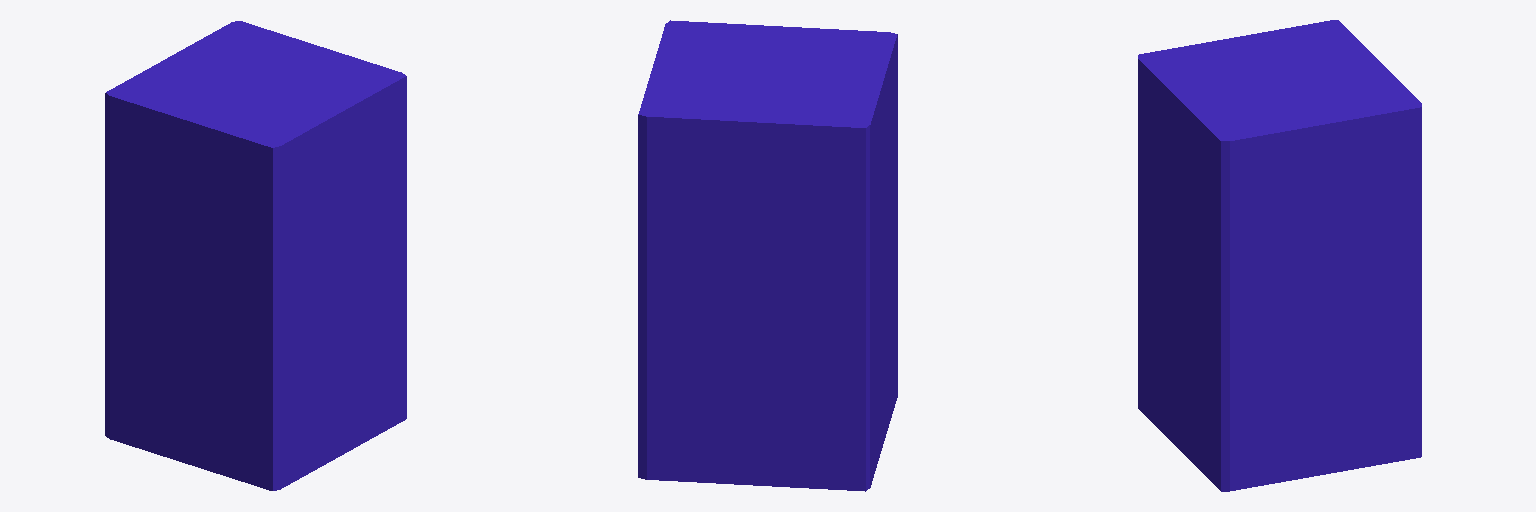
robot.urdf — zonopy_mesh_step1_link1.obj:
<robot name="zonopy_mesh_step1_link1.obj">
	<link name="link0">
		<visual>
			<origin xyz="0 0 0" rpy="0 0 0" />
			<geometry>
				<mesh filename="zonopy_mesh_step1_link1.obj" scale="1.0 1.0 1.0" />
			</geometry>
			<material name="texture">
				<color rgba="0.3 0.2 0.8 0.5" />
			</material>
		</visual>
		<inertial>
			<mass value="0" />
			<inertia ixx="0.0" ixy="0.0" ixz="0.0" iyy="0.0" iyz="0.0" izz="0.0" />
		</inertial>
	<collision><geometry><mesh filename="zonopy_mesh_step1_link1.obj" /></geometry></collision></link>
</robot>

--- What the picture shows (computed from the rendered views, not written in the file) ---
The picture shows the robot from 3 angles, left to right: view 1: azimuth 30°, elevation 25°; view 2: azimuth 150°, elevation 25°; view 3: azimuth 270°, elevation 25°; orthographic projection.
Model zonopy_mesh_step1_link1.obj with 1 links and 0 joints (none), rooted at link0, posed every joint at zero.
Links seen in each view (by area): view 1: link0; view 2: link0; view 3: link0.
Boxes of the visible links, x1,y1,x2,y2 form: link0: (105,21,406,490); link0: (638,20,897,491); link0: (1138,20,1421,491).
Bounding box of the posed robot: 0.1273 × 0.1263 × 0.172 m (x, y, z).
Meshes: 1 distinct files referenced, 1 mesh visuals loaded (1 OBJ).